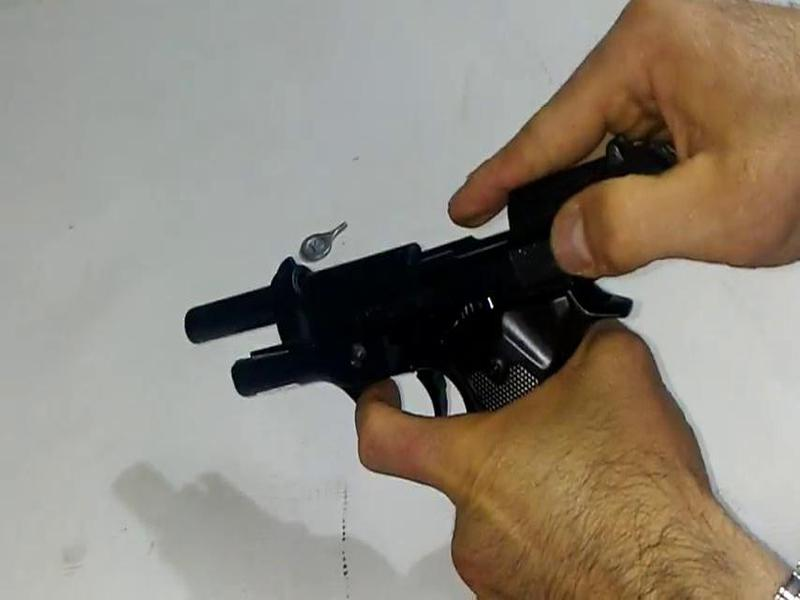Pistola: (136, 133, 683, 514)
